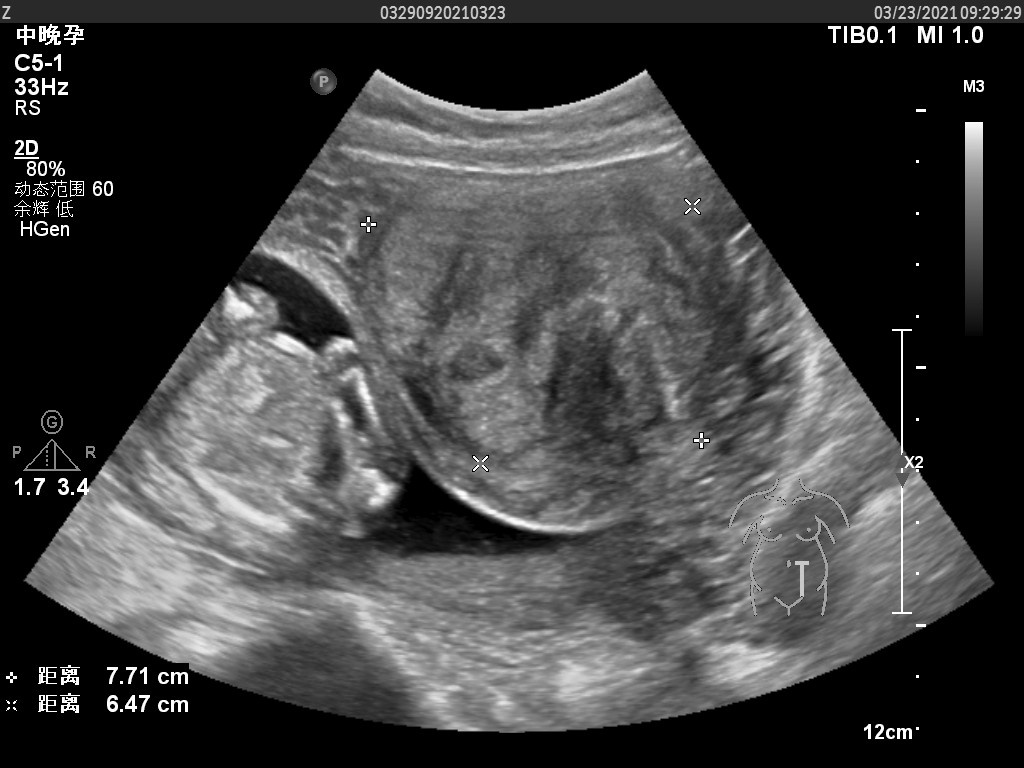肌瘤: (369, 200, 703, 463)
